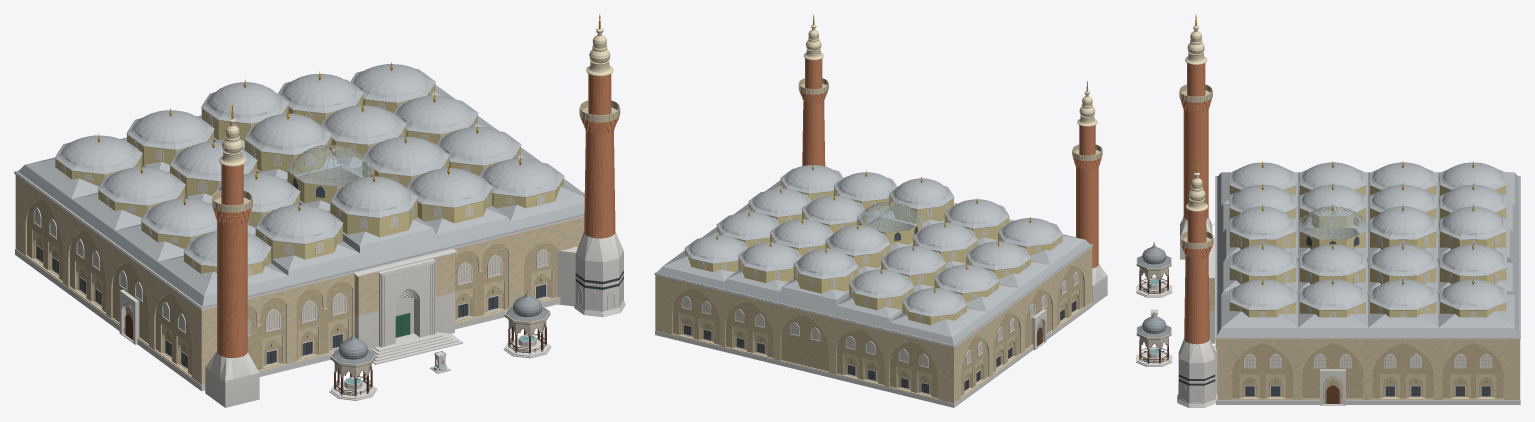
Rendered from ulu-cami_v27.glb.
3 renders of one model, left to right at view 1: azimuth 30°, elevation 25°; view 2: azimuth 150°, elevation 25°; view 3: azimuth 270°, elevation 25°, orthographic. The views are drawn at different scales.
Visible parts, largest first — view 1: Kubbeler_19, Cati, Cephe_Kuzey, Cephe_Dogu, Minare_1, Minare_2, Pencere_Girintileri, Tac_Kapi, Giris_Cikintili_Blok, Sadirvan_Kubbe, Kasnak_Pencereleri, Avlu_Sadirvan_Bati (+6 smaller); view 2: Kubbeler_19, Cephe_Guney, Cati, Cephe_Dogu, Pencere_Girintileri, Minare_2, Minare_1, Mermer_Bant, Sadirvan_Kubbe, Kasnak_Pencereleri, Silme_Ust, Sadirvan_Iskeleti (+1 smaller); view 3: Kubbeler_19, Cephe_Bati, Cati, Minare_1, Minare_2, Pencere_Girintileri, Sadirvan_Kubbe, Kasnak_Pencereleri, Avlu_Sadirvan_Dogu, Avlu_Sadirvan_Bati, Mermer_Bant, Kapi_Bati (+3 smaller).
Boxes of the visible parts, left/top/right/bottom form: Kubbeler_19: left=54, top=64, right=564, bottom=276; Cati: left=14, top=84, right=584, bottom=308; Cephe_Kuzey: left=201, top=217, right=584, bottom=384; Cephe_Dogu: left=16, top=175, right=200, bottom=384; Minare_1: left=558, top=14, right=625, bottom=317; Minare_2: left=205, top=104, right=259, bottom=407; Pencere_Girintileri: left=31, top=229, right=553, bottom=372; Tac_Kapi: left=371, top=258, right=463, bottom=364; Giris_Cikintili_Blok: left=353, top=248, right=457, bottom=350; Sadirvan_Kubbe: left=287, top=145, right=374, bottom=203; Kasnak_Pencereleri: left=61, top=90, right=560, bottom=275; Avlu_Sadirvan_Bati: left=503, top=290, right=551, bottom=358; Kubbeler_19: left=684, top=165, right=1062, bottom=325; Cephe_Guney: left=655, top=275, right=954, bottom=403; Cati: left=654, top=180, right=1092, bottom=346; Cephe_Dogu: left=954, top=248, right=1091, bottom=402; Pencere_Girintileri: left=678, top=287, right=1080, bottom=396; Minare_2: left=1072, top=81, right=1107, bottom=305; Minare_1: left=798, top=14, right=828, bottom=166; Mermer_Bant: left=655, top=302, right=1092, bottom=407; Sadirvan_Kubbe: left=857, top=202, right=922, bottom=245; Kasnak_Pencereleri: left=687, top=184, right=1058, bottom=322; Silme_Ust: left=654, top=245, right=1093, bottom=347; Sadirvan_Iskeleti: left=857, top=201, right=922, bottom=231; Kubbeler_19: left=1229, top=162, right=1506, bottom=317; Cephe_Bati: left=1217, top=339, right=1518, bottom=403; Cati: left=1215, top=172, right=1520, bottom=337; Minare_1: left=1177, top=161, right=1217, bottom=407; Minare_2: left=1179, top=14, right=1212, bottom=259; Pencere_Girintileri: left=1239, top=374, right=1496, bottom=398; Sadirvan_Kubbe: left=1299, top=207, right=1366, bottom=249; Kasnak_Pencereleri: left=1236, top=185, right=1499, bottom=316; Avlu_Sadirvan_Dogu: left=1136, top=242, right=1172, bottom=297; Avlu_Sadirvan_Bati: left=1136, top=312, right=1172, bottom=366; Mermer_Bant: left=1215, top=339, right=1520, bottom=404; Kapi_Bati: left=1320, top=369, right=1345, bottom=405.
Size of the model in its own units: 70.59 by 48.1 by 70.23.
40 materials, 5 textured.
